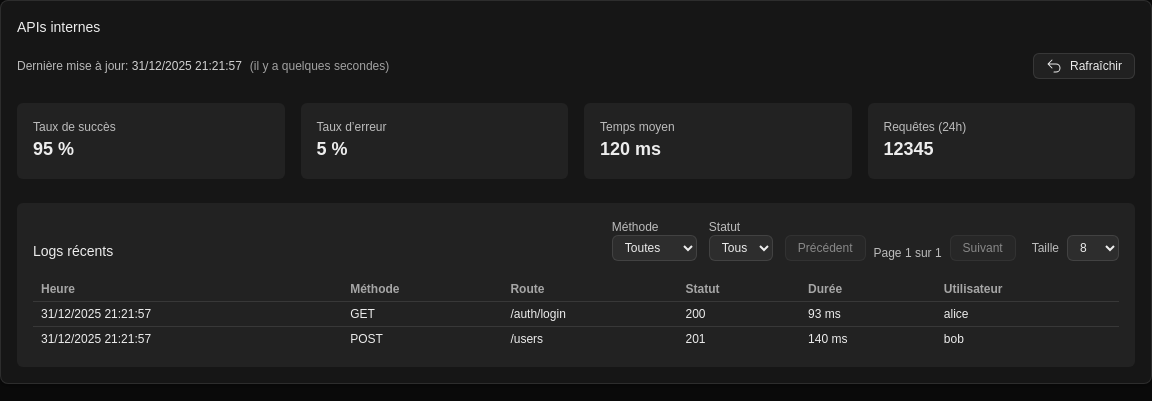
InternalApisWidget › rafraîchit les métriques et recharge les logs au clic
The image size is (1152, 401).
Expected: the text "95 %" is shown, 33,139 -> 74,159
Click the button "Rafraîchir" at coordinates (1084, 66), box 1033,53 -> 1135,79
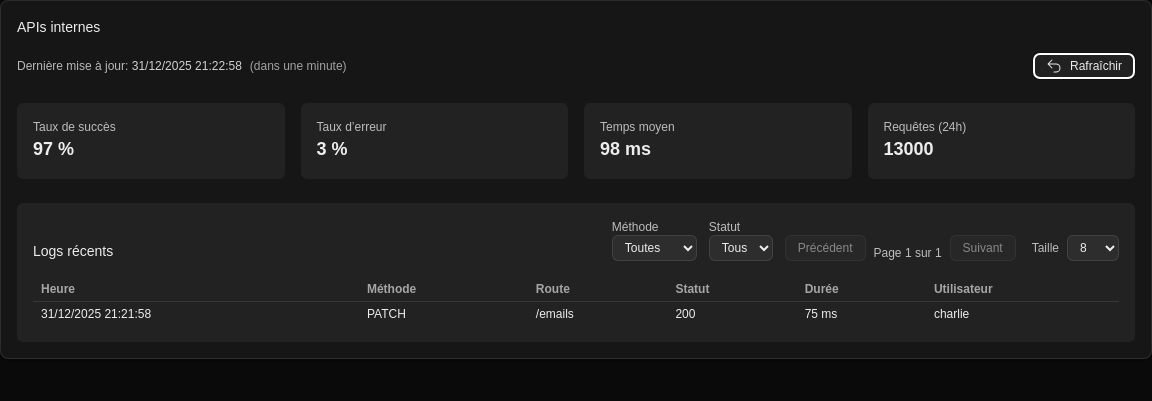
Now the text "charlie" is shown, box 926,302 -> 1119,326
